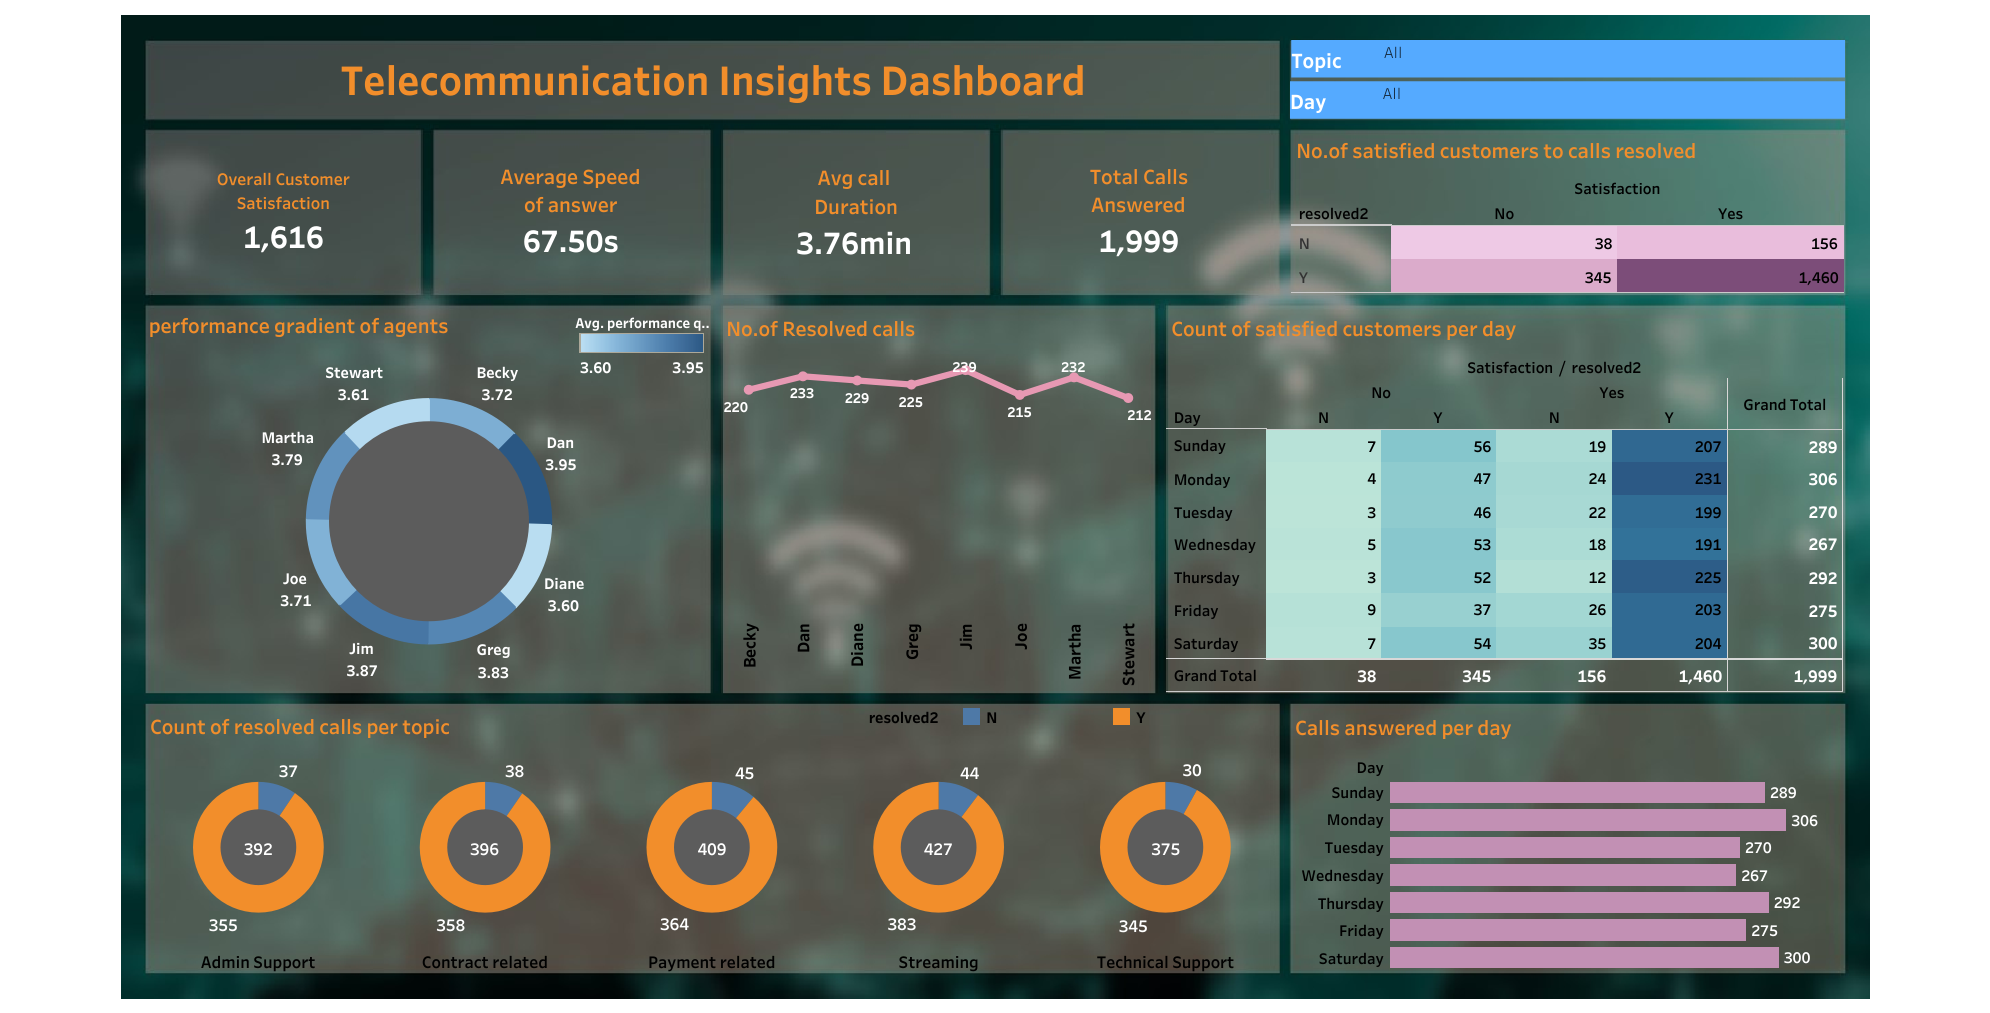

The dashboard page shown, as its layout file describes it:
{"tool":"tableau","page":{"name":"Dashboard 1","canvas":[1000,1000],"units":"permille","ordinal":0},"visuals":[{"type":"image","param":"C:/Users/Baddam Sagar Reddy/Desktop/Telecommunication background.jpg","box":[5,9.9,990,980.3]},{"type":"text","box":[74.1,39.5,568.1,76.5]},{"type":"filter","title":"Sheet 1","param":"[federated.0h69p6h1x215x10zqvrow1fgh8w9].[none:Topic:nk]","box":[648.5,39.5,278.1,37]},{"type":"filter","title":"Sheet 1","param":"[federated.0h69p6h1x215x10zqvrow1fgh8w9].[none:Day:nk]","box":[647.8,80.2,278.7,37]},{"type":"worksheet","title":"Sheet 10","mark":"Square","rows":["Calculation_697495024436490247"],"cols":["Satisfaction"],"box":[648.5,125.8,278.1,164]},{"type":"worksheet","title":"Sheet 1","mark":"Automatic","box":[74.1,127,136.8,162.8]},{"type":"worksheet","title":"Sheet 3","mark":"Automatic","box":[215.3,129.5,142.5,159.1]},{"type":"worksheet","title":"Sheet 8","mark":"Automatic","box":[361.6,129.5,135,160.3]},{"type":"worksheet","title":"Sheet 11","mark":"Automatic","box":[502.8,129.5,138.7,159.1]},{"type":"worksheet","title":"Sheet 7","mark":"Pie","rows":["Calculation_697495024434429958","Calculation_697495024434429958"],"box":[72.2,298.4,286.2,384.7]},{"type":"worksheet","title":"Sheet 5","mark":"Line","rows":["Resolved1"],"cols":["Agent"],"box":[362.2,302.1,217.8,379.8]},{"type":"worksheet","title":"Sheet 9","mark":"Square","rows":["Day"],"cols":["Satisfaction","Calculation_697495024436490247"],"box":[585.7,302.1,340.2,381]},{"type":"legend","title":"Sheet 7","param":"[federated.0h69p6h1x215x10zqvrow1fgh8w9].[avg:Calculation_697495024427311107:qk]","box":[288.8,303.3,67.8,86.3]},{"type":"worksheet","title":"Sheet 6","mark":"Pie","rows":["Calculation_697495024434429958","Calculation_697495024434429958"],"cols":["Topic"],"box":[72.8,694.2,569.4,265.1]},{"type":"legend","title":"Sheet 6","param":"[federated.0h69p6h1x215x10zqvrow1fgh8w9].[none:Calculation_697495024436490247:nk","box":[436.3,694.2,206.5,32.1]},{"type":"worksheet","title":"Sheet 4","mark":"Automatic","rows":["Day"],"cols":["Answered (Y/N)"],"box":[647.8,695.4,278.7,262.6]}]}

Visuals, with their boxes on the dashboard's canvas, which has no fixed pixel size, in thousandths of its width and height (x1, y1, x2, y2). These are canvas units, not pixel positions in the 1990x1013 screenshot, which may show the page scaled, cropped or inside an application window:
image: 5,10,995,990
text: 74,40,642,116
"Sheet 1" filter: 648,40,927,76
"Sheet 1" filter: 648,80,926,117
"Sheet 10" worksheet (Square marks): 648,126,927,290
"Sheet 1" worksheet: 74,127,211,290
"Sheet 3" worksheet: 215,130,358,289
"Sheet 8" worksheet: 362,130,497,290
"Sheet 11" worksheet: 503,130,642,289
"Sheet 7" worksheet (Pie marks): 72,298,358,683
"Sheet 5" worksheet (Line marks): 362,302,580,682
"Sheet 9" worksheet (Square marks): 586,302,926,683
"Sheet 7" legend: 289,303,357,390
"Sheet 6" worksheet (Pie marks): 73,694,642,959
"Sheet 6" legend: 436,694,643,726
"Sheet 4" worksheet: 648,695,926,958
